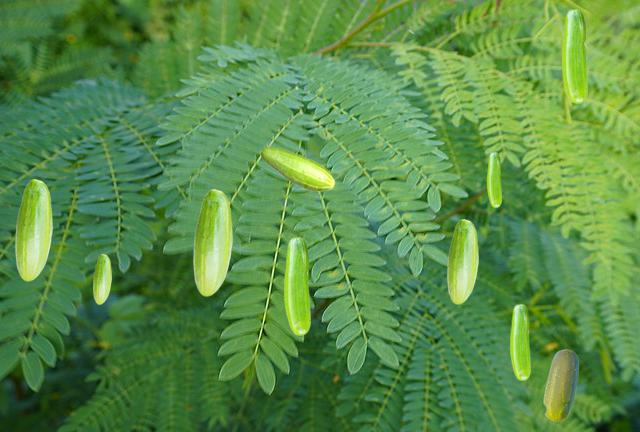cucumber: (193, 189, 231, 295), (15, 179, 51, 280), (260, 146, 334, 191), (447, 219, 477, 303), (284, 237, 309, 334), (543, 349, 577, 420), (562, 9, 586, 102), (510, 304, 529, 379), (93, 254, 110, 303), (487, 152, 500, 206)
